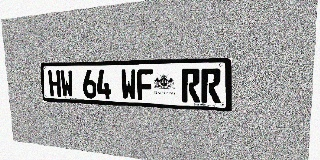4: (96, 70, 111, 99)
6: (82, 70, 97, 98)
F: (136, 69, 153, 101)
H: (48, 70, 61, 97)
R: (201, 68, 221, 103), (181, 68, 200, 103)
W: (120, 69, 137, 100), (60, 70, 74, 97)
